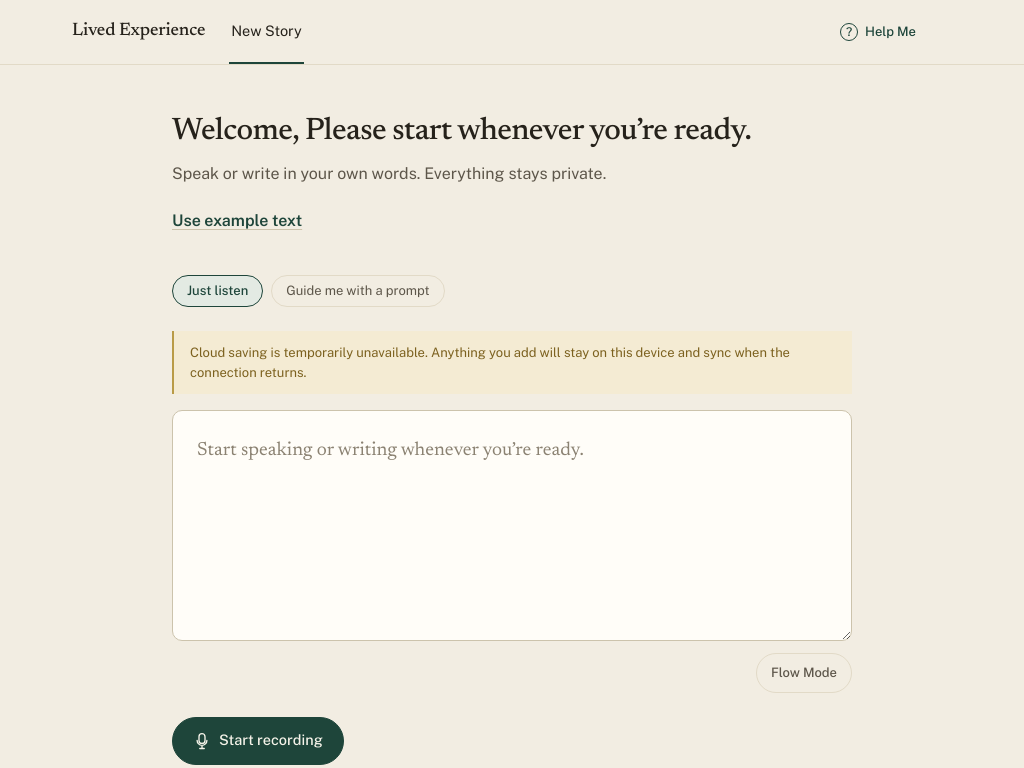
Test: App capture integration › warns about cloud trouble while leaving device-safe capture available
The image size is (1024, 768).
Expected: the text "Cloud saving is temporarily unavailable" is shown, [190,345,790,380]
Type "A fictional safe local sentence." into the text box named "Write or edit your story".
click(512, 525); type("A fictional safe local sentence.")  # box [172,410,852,641]
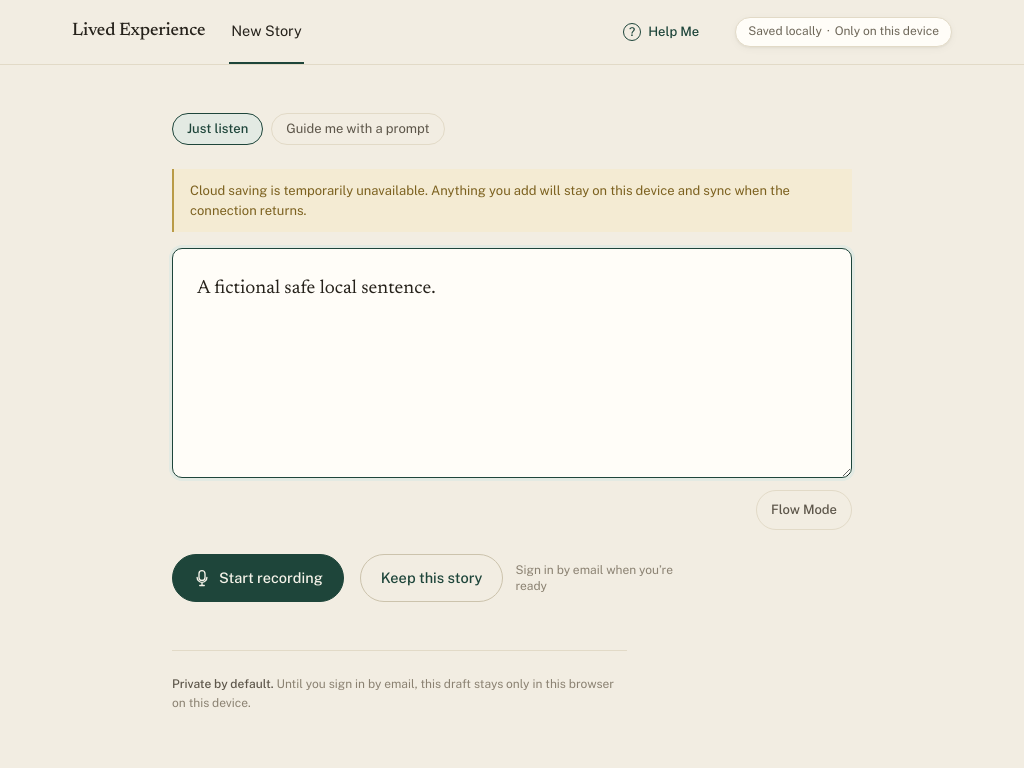
Now the text "Saved locally" is shown, box [748,24,822,40]
